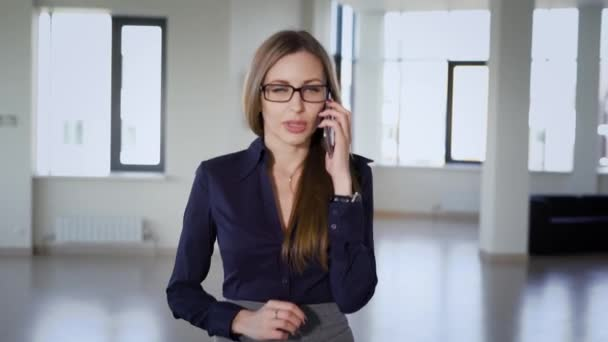phone: (314, 87, 356, 158)
talk: (257, 78, 364, 172)
